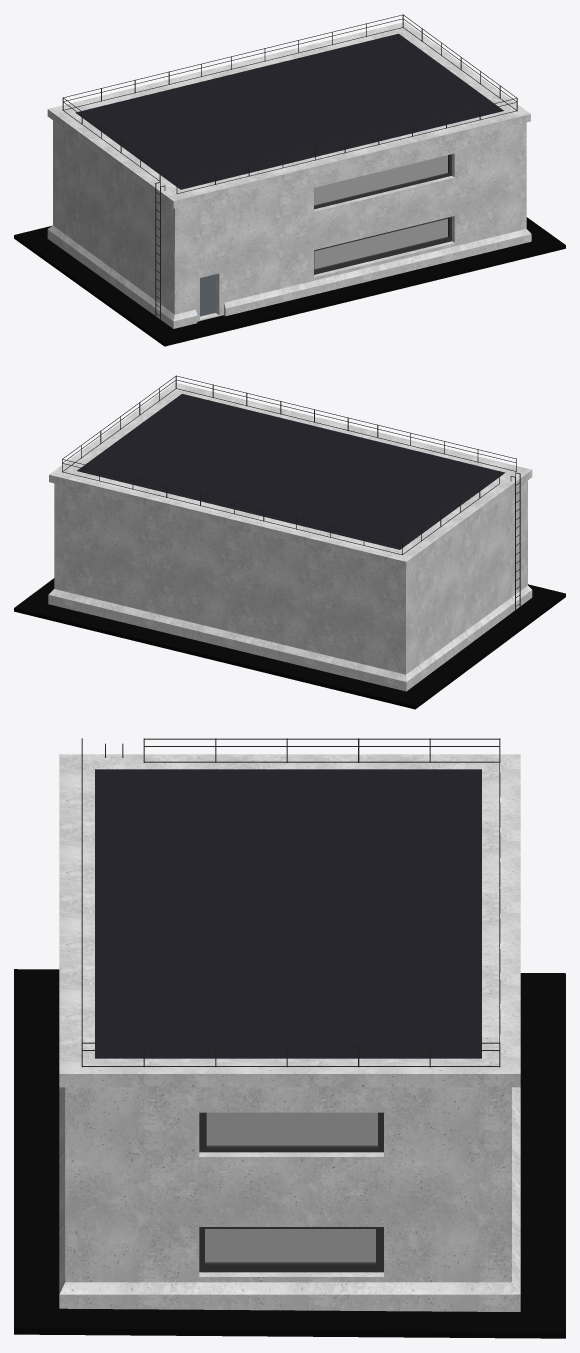
File: command-post.lod1.glb
3 renders of one model, top to bottom at view 1: azimuth 30°, elevation 25°; view 2: azimuth 150°, elevation 25°; view 3: azimuth 270°, elevation 25°, orthographic. The views are drawn at different scales.
Parts seen in each view (by area): view 1: _1st_Inner_Floor_Outer_Walls_0, _1st_Inner_Floor_Floor_1_0, Inner_Railing_Railing_0, window_1_window_0; view 2: _1st_Inner_Floor_Outer_Walls_0, _1st_Inner_Floor_Floor_1_0, Inner_Railing_Railing_0; view 3: _1st_Inner_Floor_Floor_1_0, _1st_Inner_Floor_Outer_Walls_0, Inner_Railing_Railing_0, window_1_window_0.
Boxes of the visible parts, x1=… form: _1st_Inner_Floor_Outer_Walls_0: x1=47, y1=22, x2=531, y2=328; _1st_Inner_Floor_Floor_1_0: x1=14, y1=33, x2=565, y2=346; Inner_Railing_Railing_0: x1=62, y1=14, x2=517, y2=319; window_1_window_0: x1=314, y1=154, x2=451, y2=274; _1st_Inner_Floor_Outer_Walls_0: x1=48, y1=382, x2=532, y2=691; _1st_Inner_Floor_Floor_1_0: x1=14, y1=393, x2=565, y2=709; Inner_Railing_Railing_0: x1=62, y1=375, x2=520, y2=610; _1st_Inner_Floor_Floor_1_0: x1=14, y1=769, x2=565, y2=1338; _1st_Inner_Floor_Outer_Walls_0: x1=59, y1=754, x2=520, y2=1311; Inner_Railing_Railing_0: x1=81, y1=738, x2=500, y2=1067; window_1_window_0: x1=199, y1=1112, x2=383, y2=1272.
Size of the model in its own units: 28.5 by 9.96 by 18.52.
6 materials, 2 textured.
